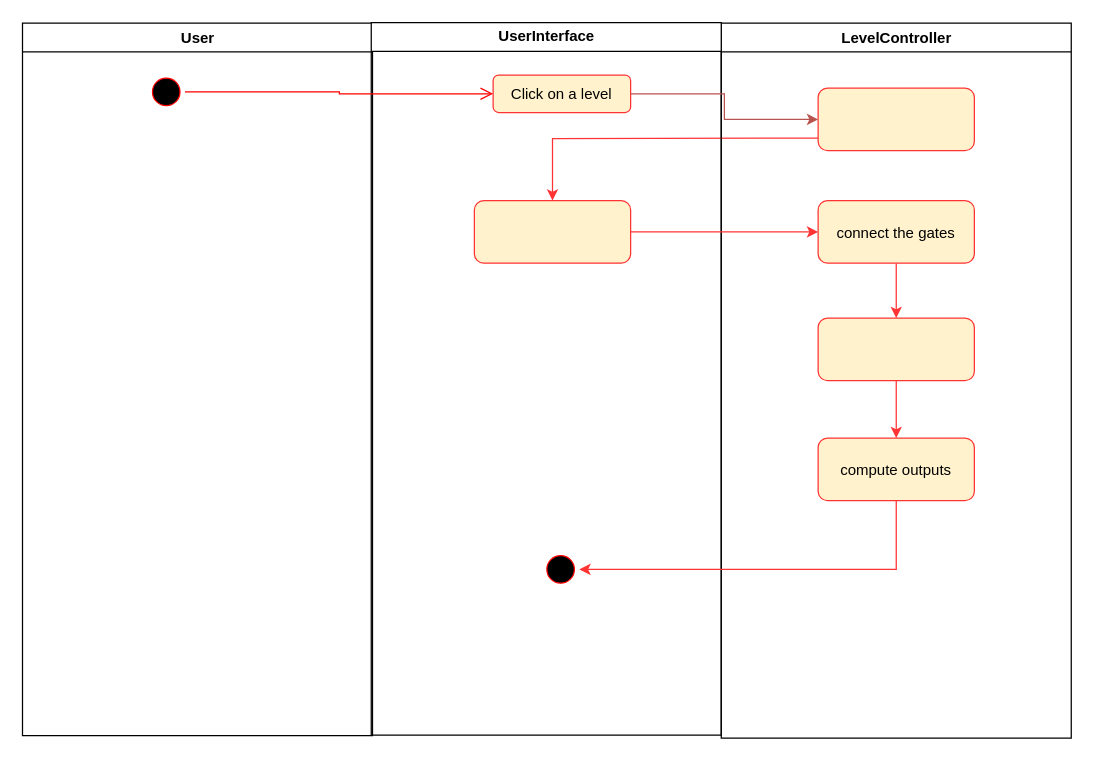
This 1093x760 diagram has some shape labels left out. Each missing label, with the centre of its shape:
draw gates: the point at 552,231
Load level data from file: the point at 895,119
update gate inputs: the point at 895,349
